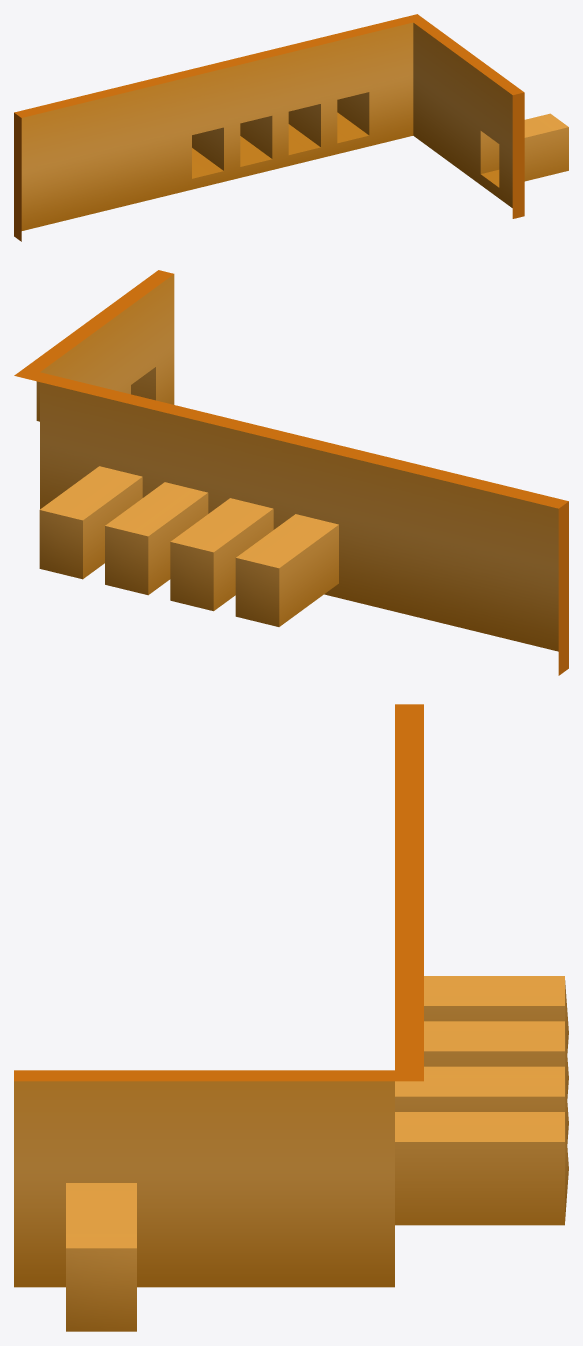
Rendered from Walls.FBX.
3 views of the same model, one above another, from view 1: azimuth 30°, elevation 25°; view 2: azimuth 150°, elevation 25°; view 3: azimuth 270°, elevation 25° (orthographic). The views are drawn at different scales.
Visible parts, largest first — view 1: Object001; view 2: Object001; view 3: Object001.
Boxes of the visible parts, box(x1,y1,x2,y2) form: Object001: box(14, 14, 568, 241); Object001: box(14, 270, 568, 675); Object001: box(14, 704, 568, 1331).
Bounding box in the file's own units: 1299 × 332 × 703.
